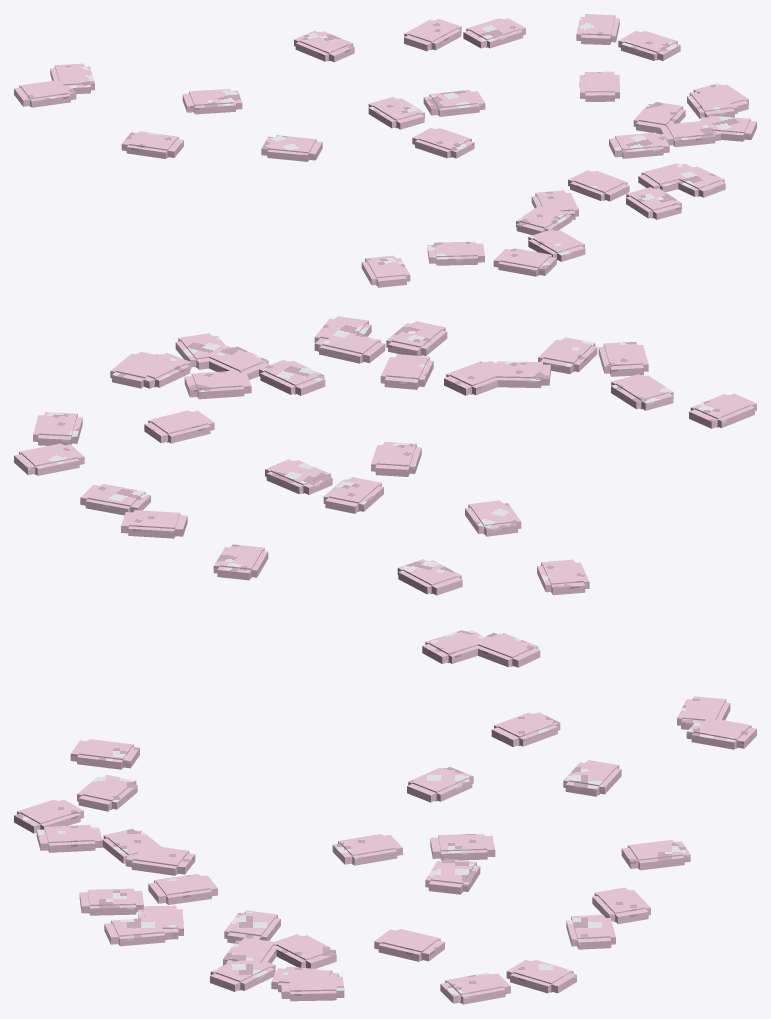
Rendered from env_blossom_petal_pile.glb.
3 renders of one model, top to bottom at view 1: azimuth 30°, elevation 25°; view 2: azimuth 150°, elevation 25°; view 3: azimuth 270°, elevation 25°, orthographic. The views are drawn at different scales.
Visible parts, largest first — view 1: model; view 2: model; view 3: model.
Part boxes in pixels (bbox=[...]): model: bbox=[14, 14, 756, 287]; model: bbox=[14, 316, 756, 667]; model: bbox=[14, 696, 756, 1004].
Bounding box in the file's own units: 1.6 × 0.024 × 1.66.
Materials: 2 (1 with a texture image).
